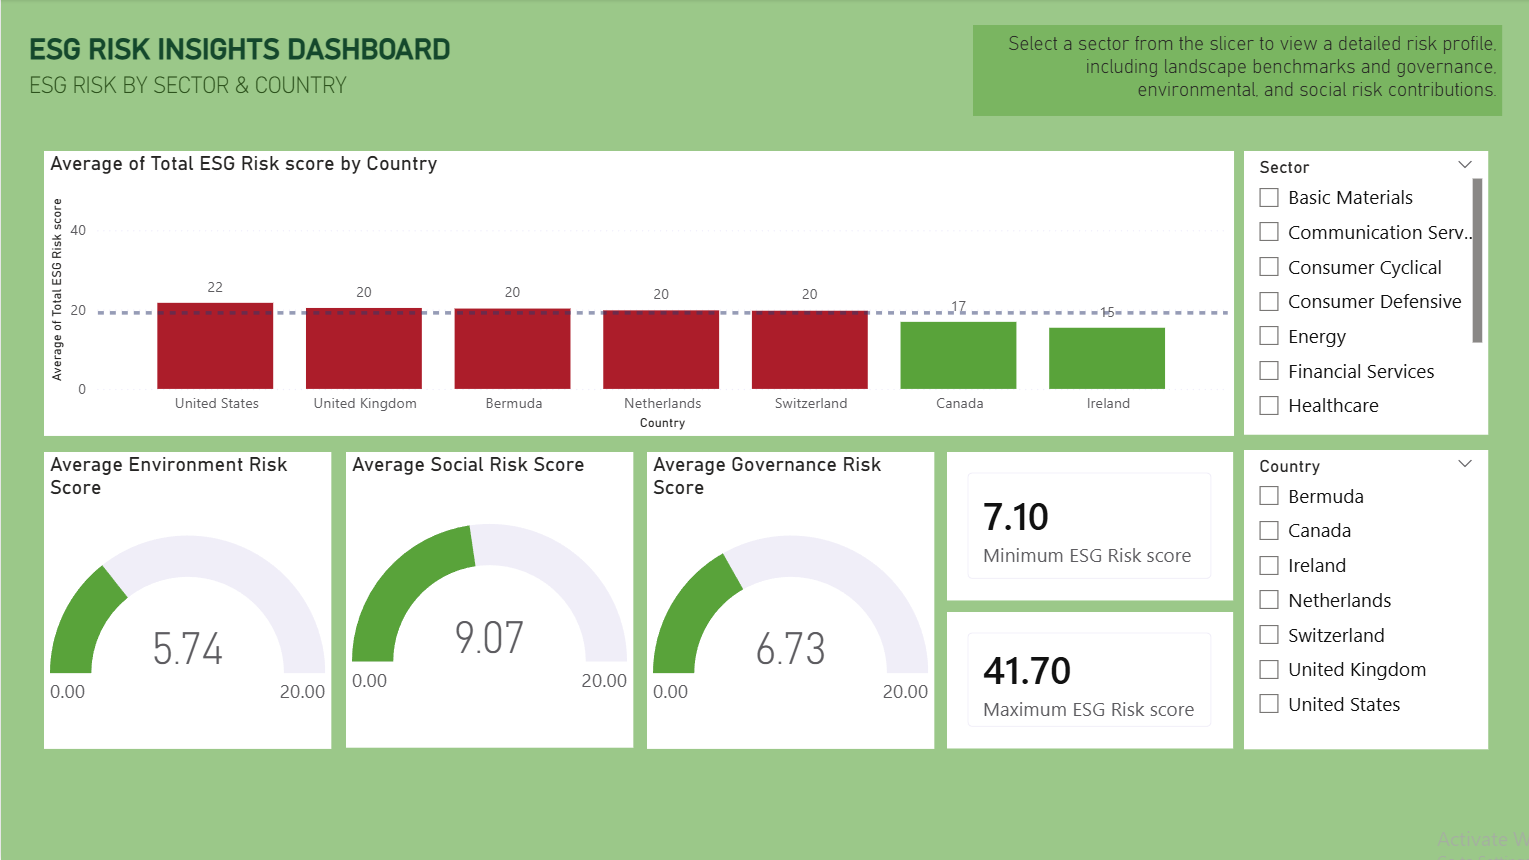

This screenshot's page, from the dashboard's own definition file:
{"tool":"powerbi","page":{"name":"Risk by Country","canvas":[1280,720],"ordinal":4},"visuals":[{"type":"slicer","fields":{"Values":["SP 500 ESG Risk Ratings.Sector"]},"box":[1038.5,126.9,203.8,237.2],"z":0},{"type":"slicer","fields":{"Values":["SP 500 ESG Risk Ratings.Country"]},"box":[1038.5,376.9,203.8,250],"z":1000},{"type":"gauge","fields":{"Y":["Avg(SP 500 ESG Risk Ratings.Environment Risk Score)"]},"box":[35.9,378.1,239.9,247.5],"z":1000,"group":"g1"},{"type":"textbox","box":[18.4,23.3,1234.4,41.7],"z":2000},{"type":"textbox","box":[18,55.4,354.6,42.9],"z":3000},{"type":"gauge","fields":{"Y":["Avg(SP 500 ESG Risk Ratings.Social Risk Score)"]},"box":[287.9,378.1,239.7,247],"z":3000,"group":"g1"},{"type":"group","id":"g1","title":"Group 1","box":[35.9,126.9,993.6,498.7],"z":4000},{"type":"textbox","box":[811.5,21.8,442.3,75.6],"z":5000},{"type":"gauge","fields":{"Y":["Avg(SP 500 ESG Risk Ratings.Governance Risk Score)"]},"box":[539.6,378.1,239.9,247.5],"z":5000,"group":"g1"},{"type":"cardVisual","fields":{"Data":["Min(SP 500 ESG Risk Ratings.Total ESG Risk score)"]},"box":[790.5,378.1,238.9,123.8],"z":6000,"group":"g2"},{"type":"clusteredColumnChart","fields":{"Y":["Avg(SP 500 ESG Risk Ratings.Total ESG Risk score)"],"Category":["SP 500 ESG Risk Ratings.Country"]},"box":[35.9,126.9,993.6,237.7],"z":7000,"group":"g1"},{"type":"cardVisual","fields":{"Data":["Max(SP 500 ESG Risk Ratings.Total ESG Risk score)"]},"box":[790.5,511.7,238.9,114],"z":8000,"group":"g1"},{"type":"group","id":"g2","title":"Group 3","box":[790.5,378.1,238.9,123.8],"z":9000,"group":"g1"}]}

Visuals, with their boxes in screenshot pixels (x1, y1, x2, y2), scaled from the page's 1280x720 canvas onto the 1529x860 screenshot:
slicer - SP 500 ESG Risk Ratings.Sector: {"x1": 1241, "y1": 152, "x2": 1484, "y2": 435}
slicer - SP 500 ESG Risk Ratings.Country: {"x1": 1241, "y1": 450, "x2": 1484, "y2": 749}
gauge - Avg(SP 500 ESG Risk Ratings.Environment Risk Score): {"x1": 43, "y1": 452, "x2": 329, "y2": 747}
textbox: {"x1": 22, "y1": 28, "x2": 1497, "y2": 78}
textbox: {"x1": 22, "y1": 66, "x2": 445, "y2": 117}
gauge - Avg(SP 500 ESG Risk Ratings.Social Risk Score): {"x1": 344, "y1": 452, "x2": 630, "y2": 747}
"Group 1" group: {"x1": 43, "y1": 152, "x2": 1230, "y2": 747}
textbox: {"x1": 969, "y1": 26, "x2": 1498, "y2": 116}
gauge - Avg(SP 500 ESG Risk Ratings.Governance Risk Score): {"x1": 645, "y1": 452, "x2": 931, "y2": 747}
cardVisual - Min(SP 500 ESG Risk Ratings.Total ESG Risk score): {"x1": 944, "y1": 452, "x2": 1230, "y2": 599}
clusteredColumnChart - Avg(SP 500 ESG Risk Ratings.Total ESG Risk score) x SP 500 ESG Risk Ratings.Country: {"x1": 43, "y1": 152, "x2": 1230, "y2": 435}
cardVisual - Max(SP 500 ESG Risk Ratings.Total ESG Risk score): {"x1": 944, "y1": 611, "x2": 1230, "y2": 747}
"Group 3" group: {"x1": 944, "y1": 452, "x2": 1230, "y2": 599}
